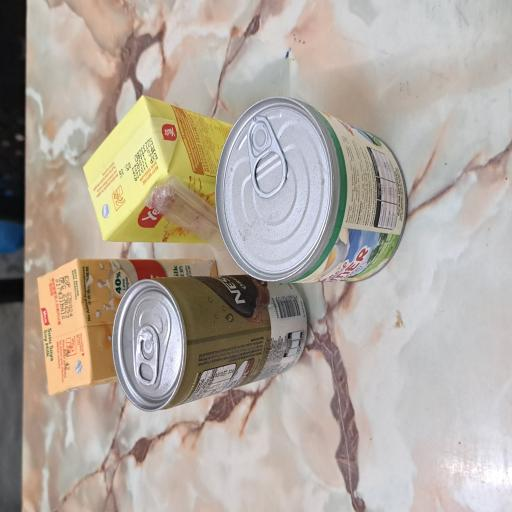can: (172, 284, 311, 512), (73, 145, 181, 410)
drink carton: (87, 46, 191, 296), (202, 107, 314, 314)
pop tab: (235, 327, 299, 383), (97, 178, 141, 214)
